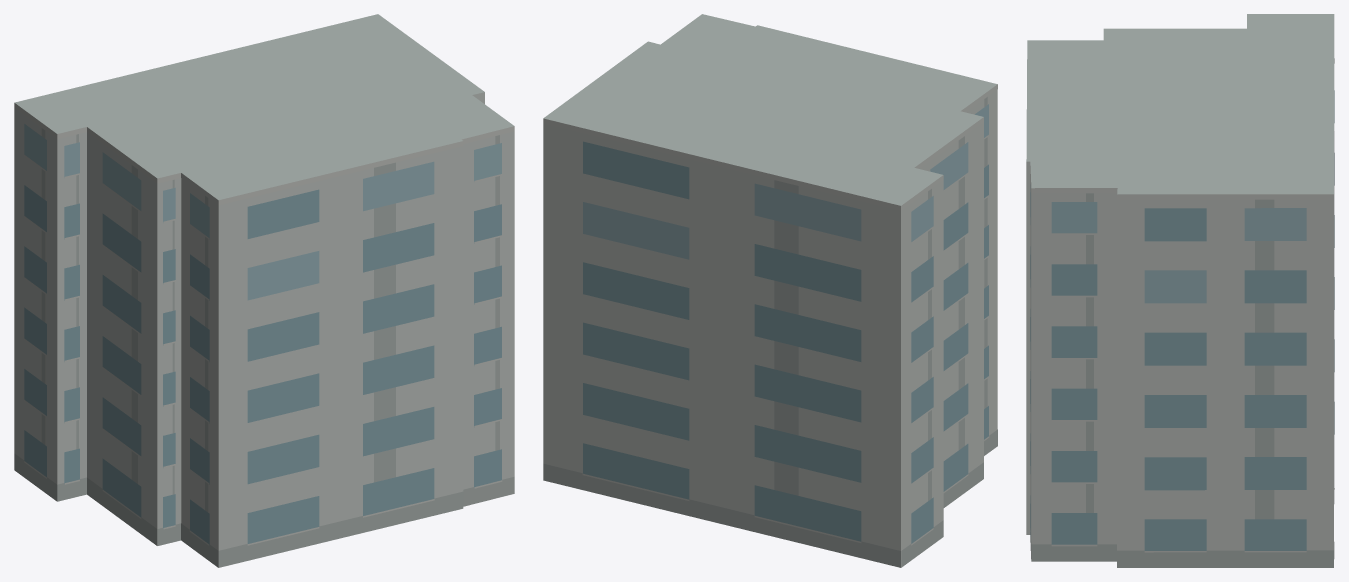
File: survey-upis-32706234.glb
The picture shows the model from 3 angles, left to right: view 1: azimuth 30°, elevation 25°; view 2: azimuth 150°, elevation 25°; view 3: azimuth 270°, elevation 25°; orthographic projection. The views are drawn at different scales.
Visible parts, largest first — view 1: survey-upis-32706234.tmp; view 2: survey-upis-32706234.tmp; view 3: survey-upis-32706234.tmp.
Boxes of the visible parts, bbox=[...] form: survey-upis-32706234.tmp: bbox=[14, 14, 514, 567]; survey-upis-32706234.tmp: bbox=[543, 14, 997, 567]; survey-upis-32706234.tmp: bbox=[1026, 14, 1334, 567].
Size of the model in its own units: 17.84 by 17.2 by 12.88.
